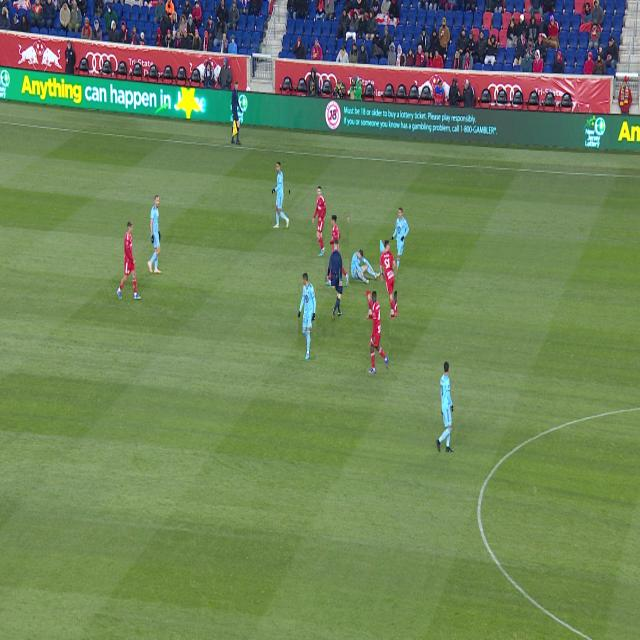player: (366, 292, 389, 374), (117, 222, 141, 300), (325, 215, 349, 286), (298, 274, 316, 360), (436, 362, 453, 452), (380, 240, 397, 317), (392, 208, 409, 277), (273, 162, 289, 228), (351, 249, 380, 284), (148, 195, 161, 273), (313, 186, 326, 257)
referee: (332, 240, 347, 320)
